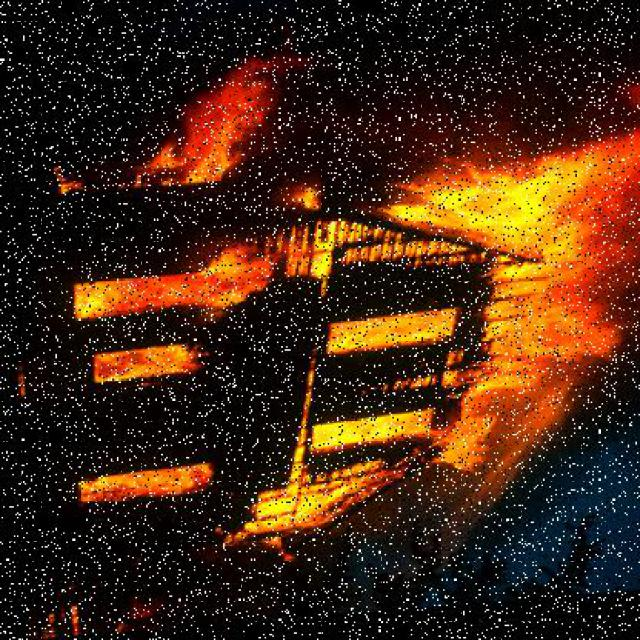fire: (224, 86, 640, 552)
